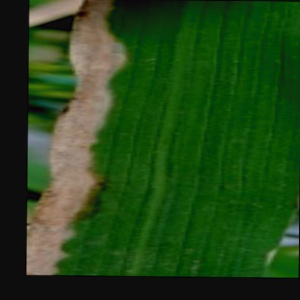Leaf_Blast: (56, 0, 193, 276)
